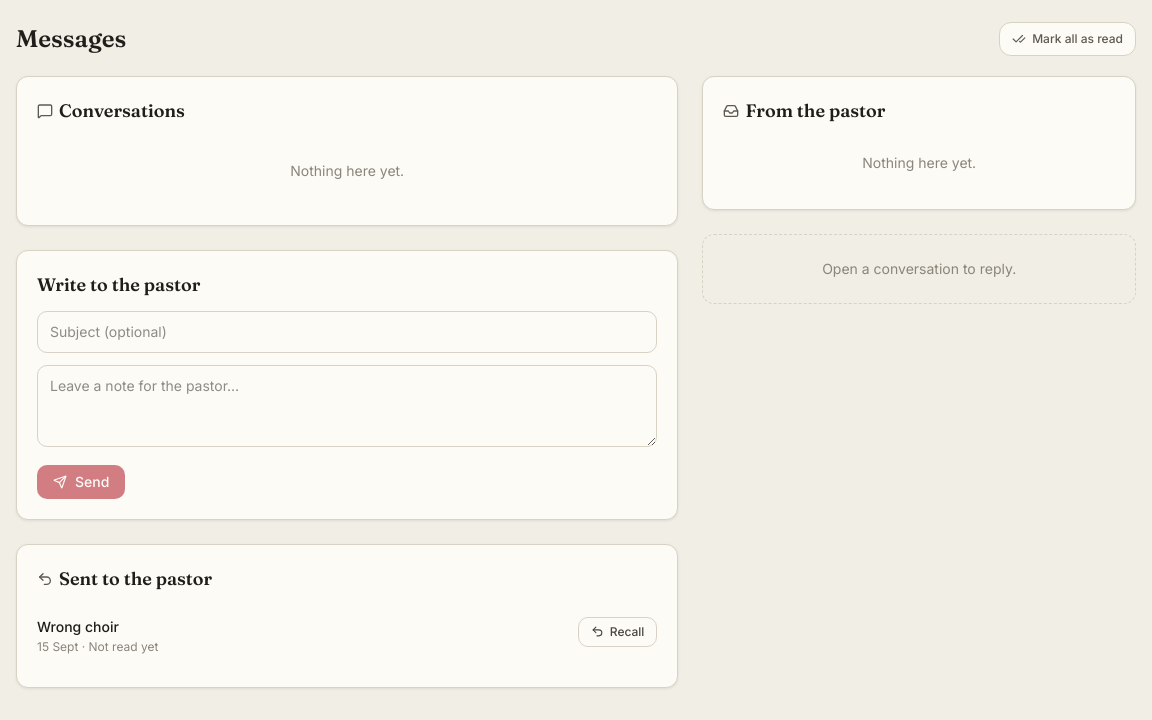
Messages: recalling a message sent to the pastor › does not withdraw anything on the first click: it asks
(page scrolled)
expect the text "Wrong choir" is shown: met, box left=37, top=618, right=119, bottom=634
Click the button "Recall": [618, 632] box left=578, top=616, right=657, bottom=646
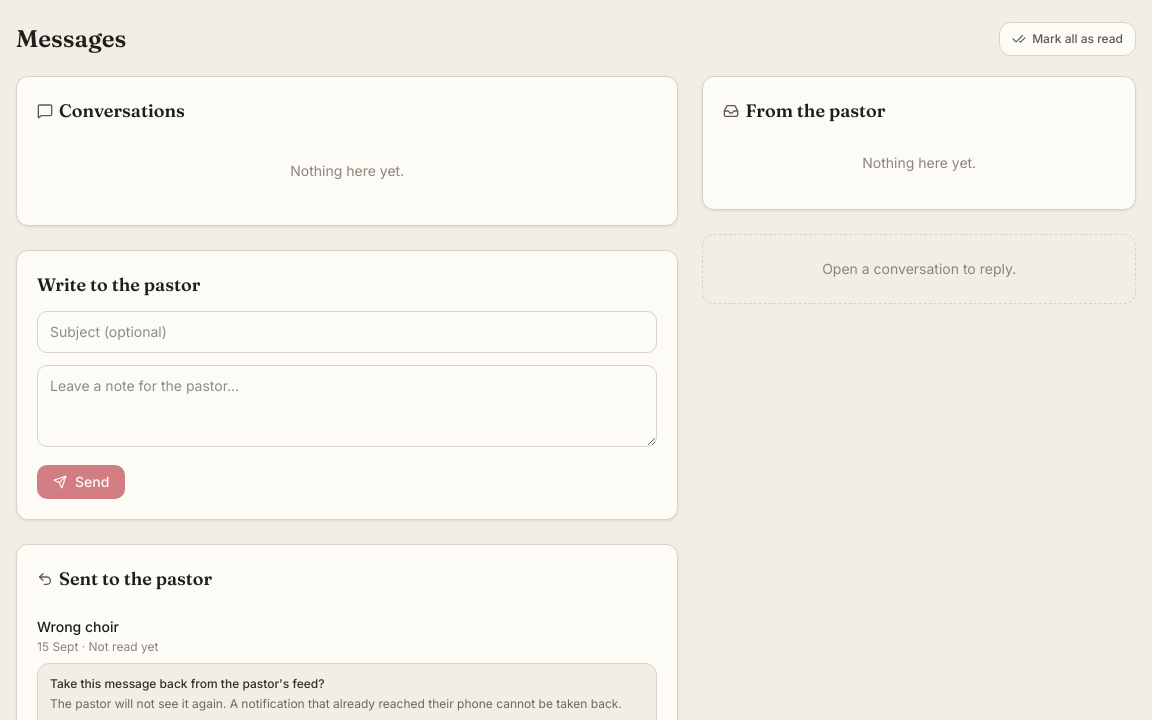
expect the text "Take this message back from the pastor's feed?" is shown: met, box left=50, top=676, right=324, bottom=690
expect the text "notification that already reached their phone cannot be taken back" is shown: met, box left=50, top=696, right=622, bottom=710
